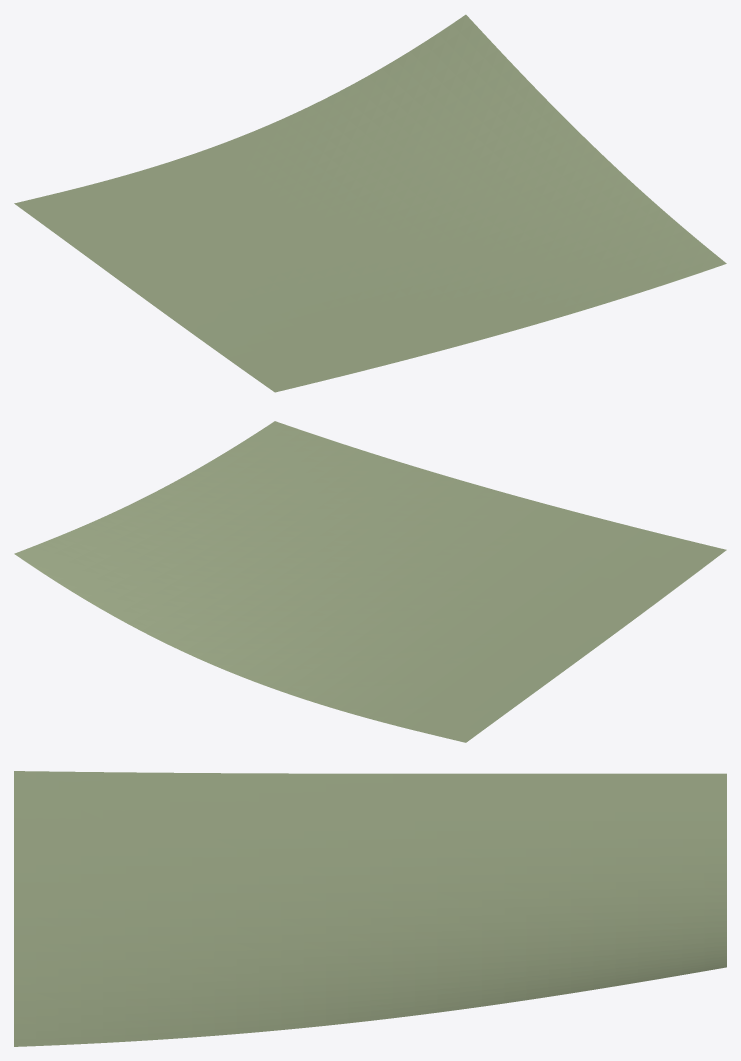
File: expanse-21-29.glb
The picture shows the model from 3 angles, top to bottom: view 1: azimuth 30°, elevation 25°; view 2: azimuth 150°, elevation 25°; view 3: azimuth 270°, elevation 25°; orthographic projection. The views are drawn at different scales.
Visible parts, largest first — view 1: expanse-21-29; view 2: expanse-21-29; view 3: expanse-21-29.
Boxes of the visible parts, <box> form: expanse-21-29: <box>14,14,726,392</box>; expanse-21-29: <box>14,421,726,742</box>; expanse-21-29: <box>14,771,726,1046</box>.
Bounding box in the file's own units: 256 × 42.81 × 256.
